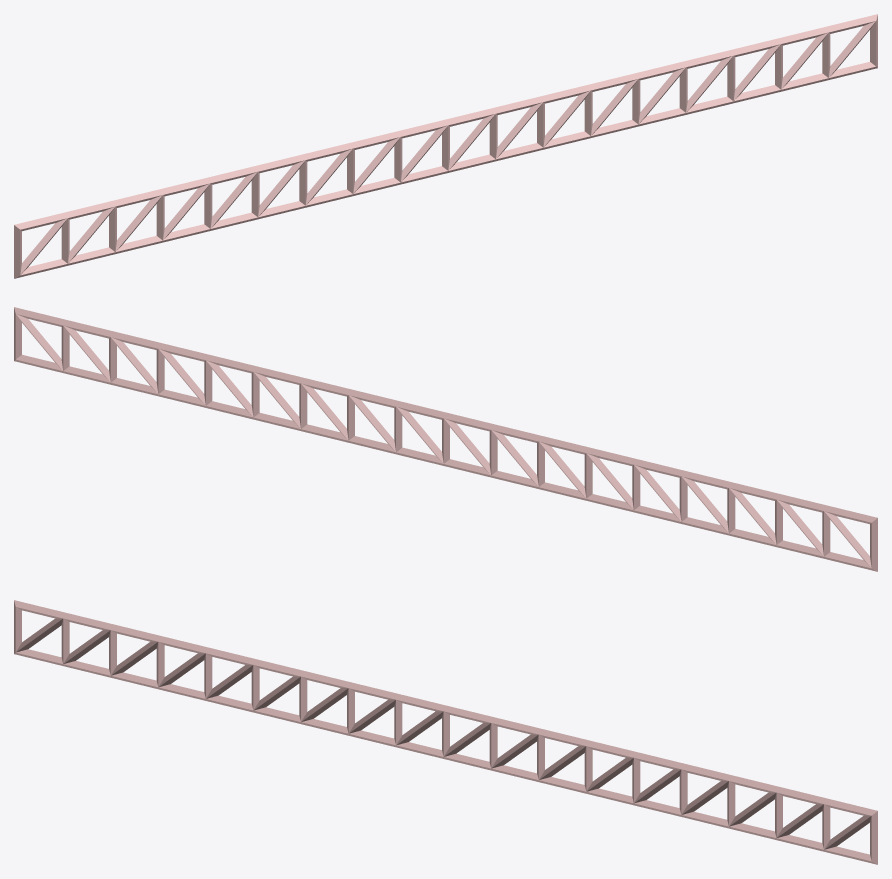
The model's file is Pillar Horizontal 01.fbx.
3 renders of one model, top to bottom at view 1: azimuth 30°, elevation 25°; view 2: azimuth 150°, elevation 25°; view 3: azimuth 330°, elevation 25°, orthographic.
Visible parts, largest first — view 1: Pillar Horizontal 01; view 2: Pillar Horizontal 01; view 3: Pillar Horizontal 01.
Boxes of the visible parts, left/top/right/bottom form: Pillar Horizontal 01: left=14, top=14, right=877, bottom=278; Pillar Horizontal 01: left=14, top=307, right=877, bottom=571; Pillar Horizontal 01: left=14, top=600, right=877, bottom=864.
Size of the model in its own units: 22.71 by 1.36 by 0.211.
